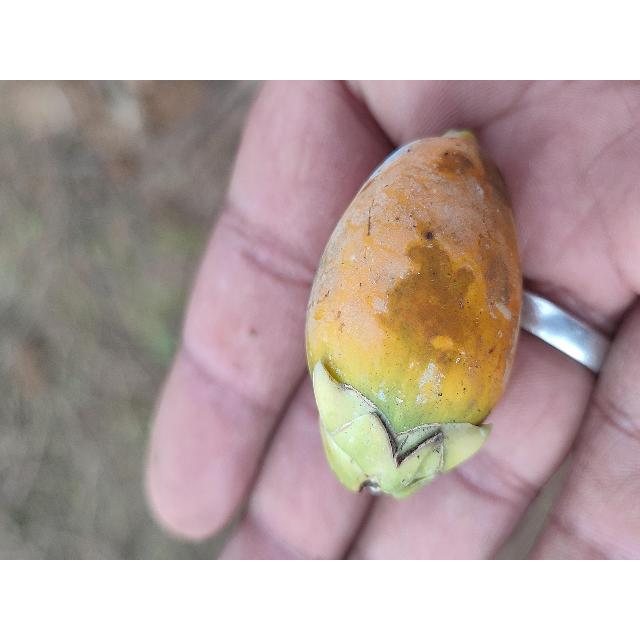good: (303, 131, 524, 501)
